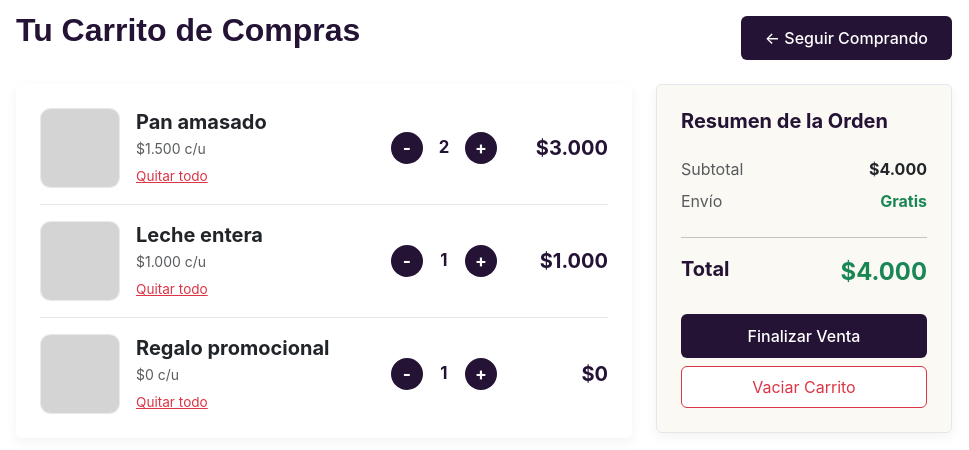
Test: Pruebas unitarias para Carrito de Compras › vacía todo el carrito usando el botón "Vaciar Carrito"
This screenshot has width=969, height=450.
Click the button "Vaciar Carrito" at (804, 387), box x1=681 y1=366 x2=927 y2=408
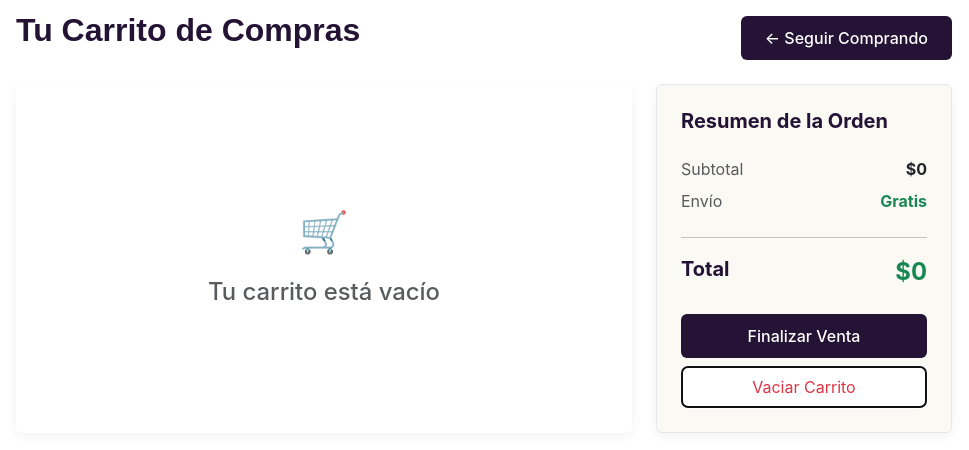
Expected: the heading "Tu carrito está vacío" is shown, x1=208 y1=277 x2=440 y2=306
